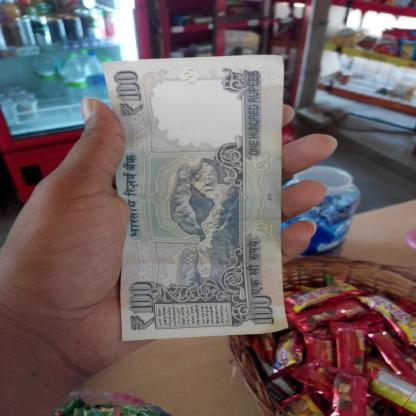Old100Back: (102, 54, 290, 342)
